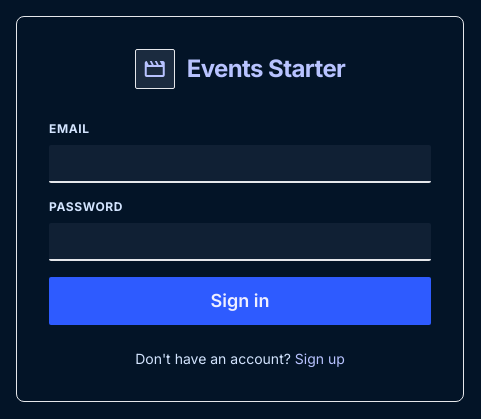
Test: LoginForm › shows loading state while submitting
Type "test@example.com" into the field at (240, 164), box [49, 145, 431, 183]
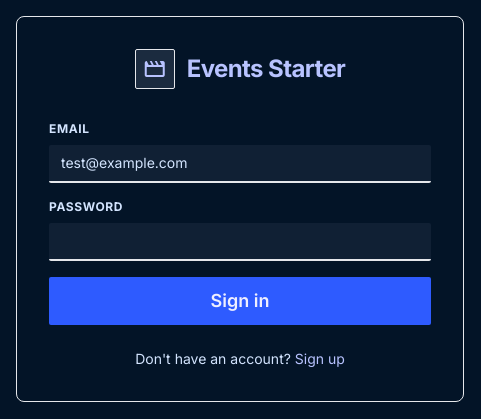
Type "password123" into the password field at (240, 242), box [49, 223, 431, 261]
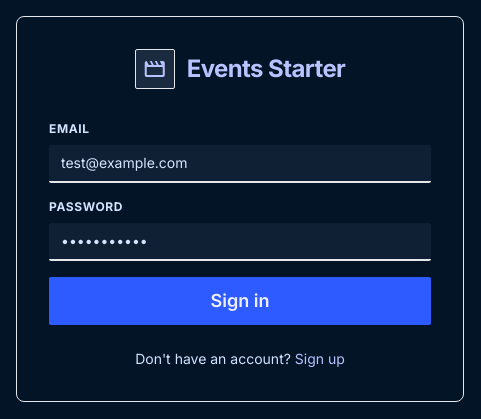
Click the button "Sign in" at (240, 301), box [49, 277, 431, 325]
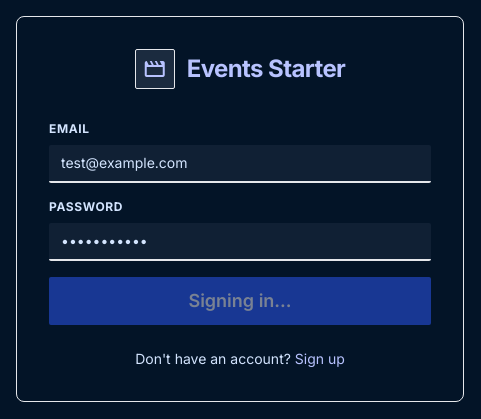
Result: the button "Signing in..." is shown at [49, 277, 431, 325]
